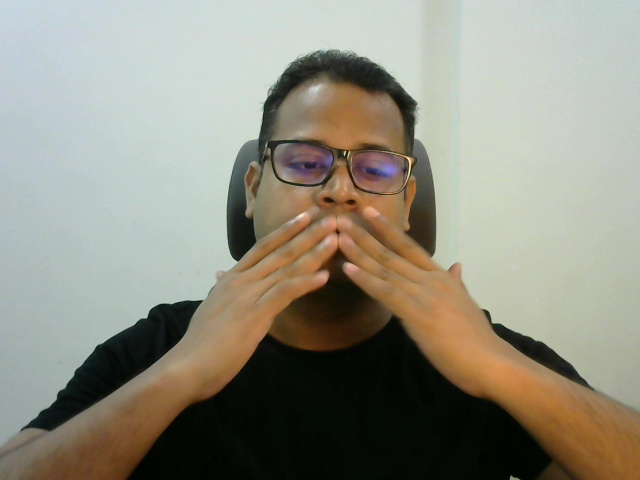ThankYou: (194, 205, 487, 401)
